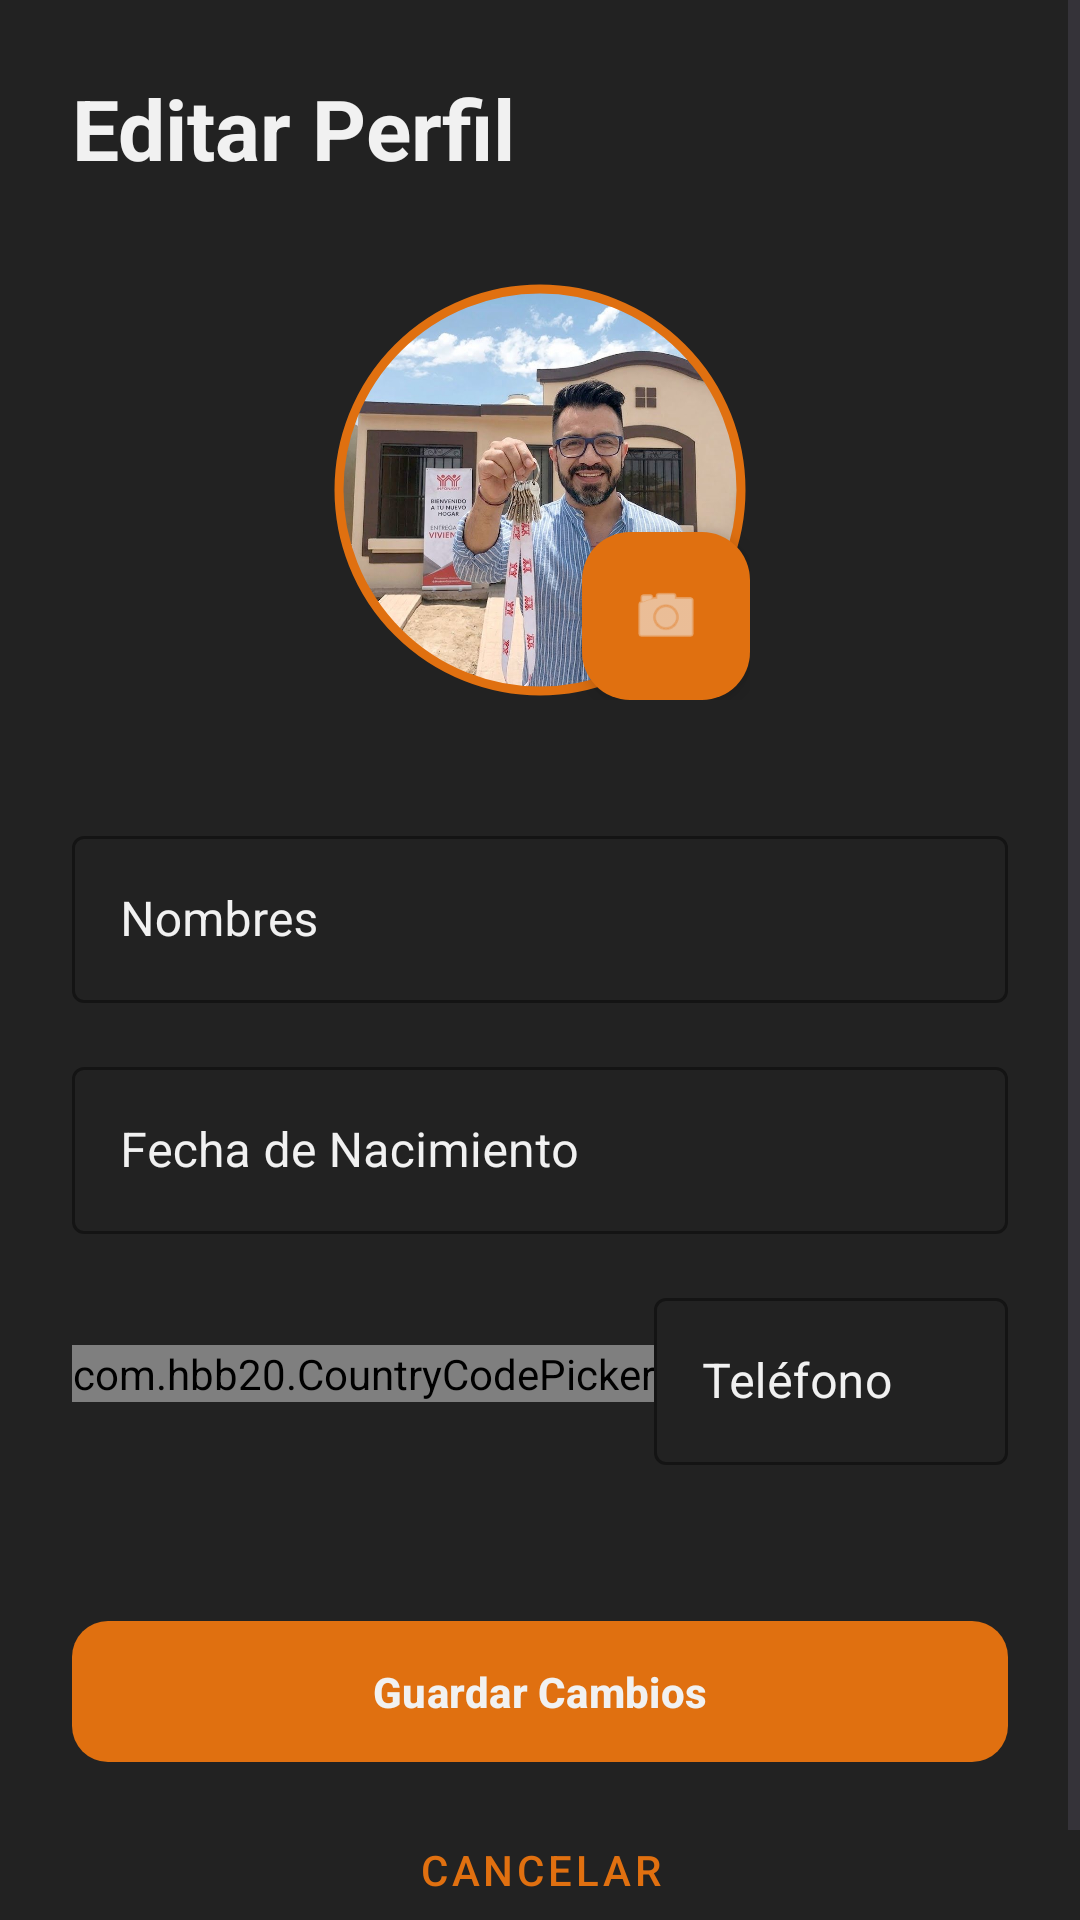

Icons on this 1080×1920 Android screen, each with the point to tap as point (x, y):
camera: point (666, 616)
